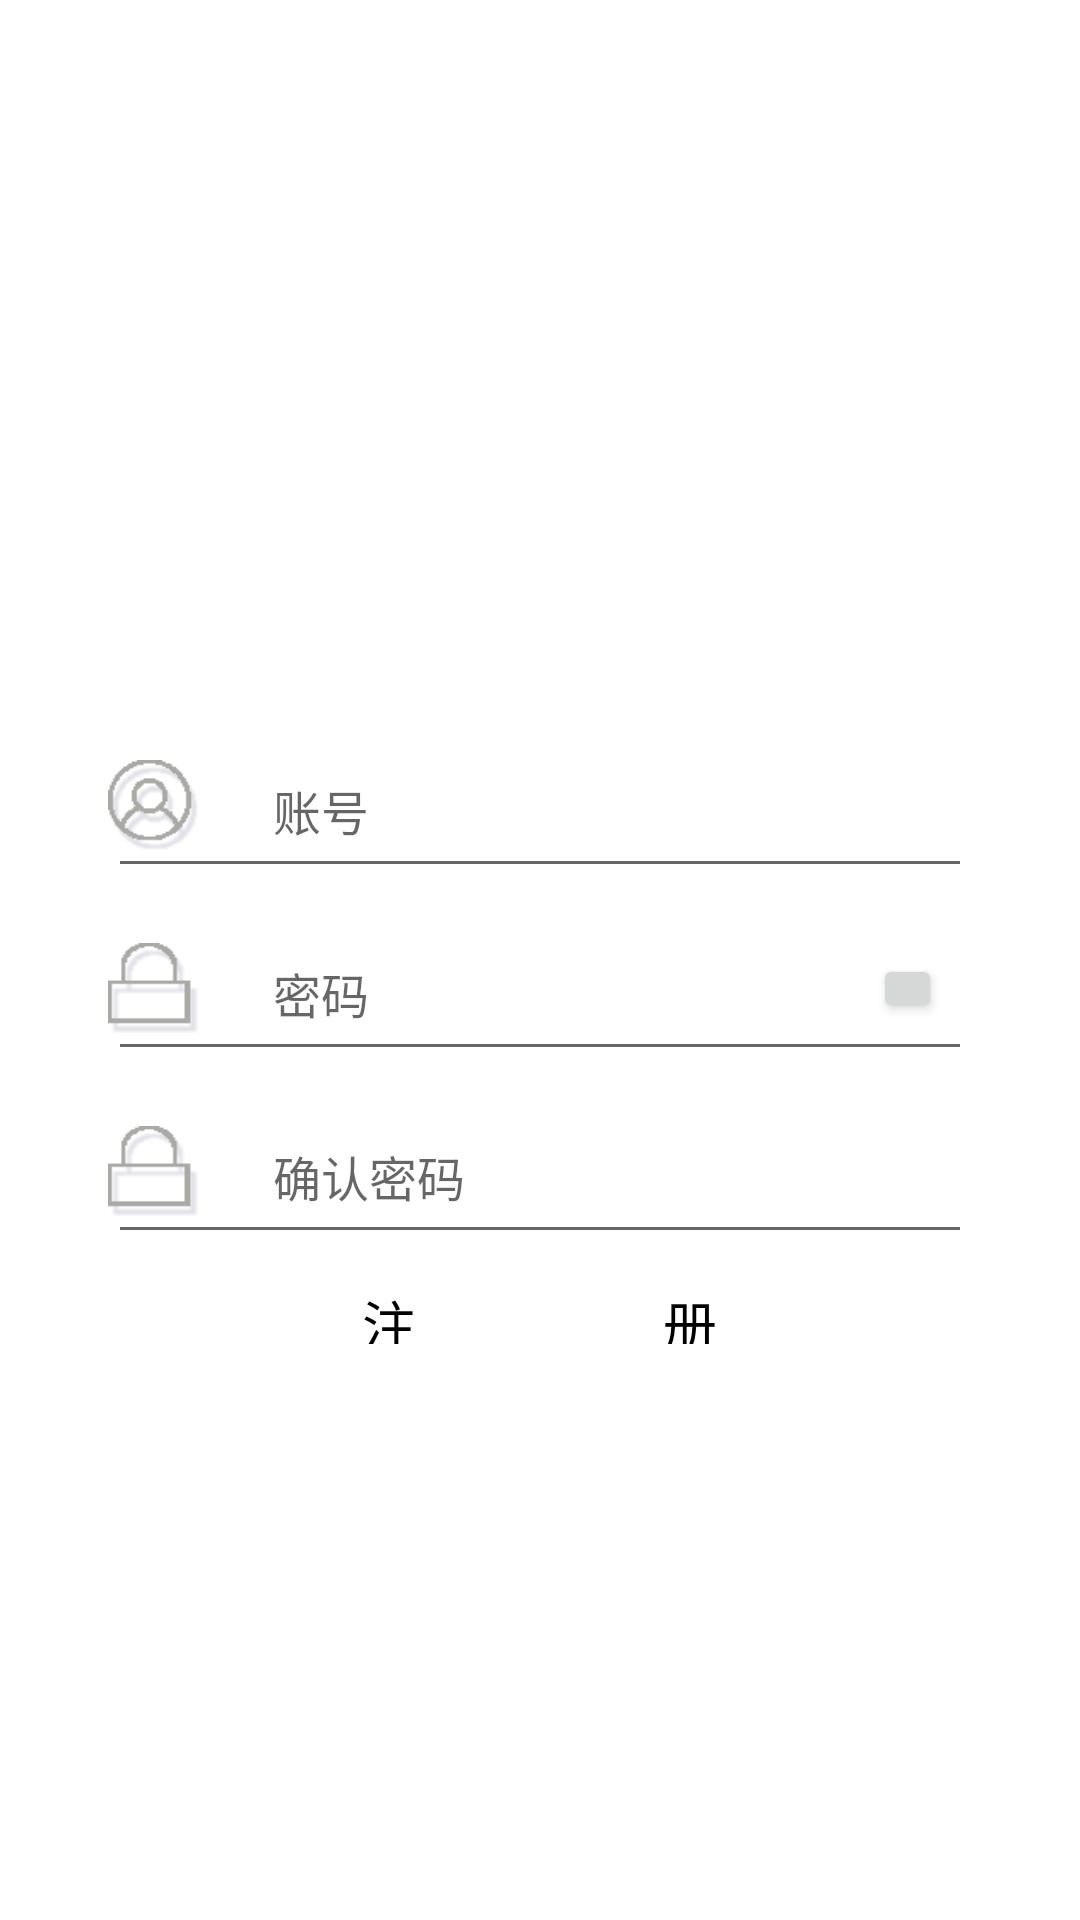

Screen size 1080w x 1920h. Icon name, then its center in pixels as [x,y]:
mima: [151,986], [151,1169]
zhanghao: [151,803]
